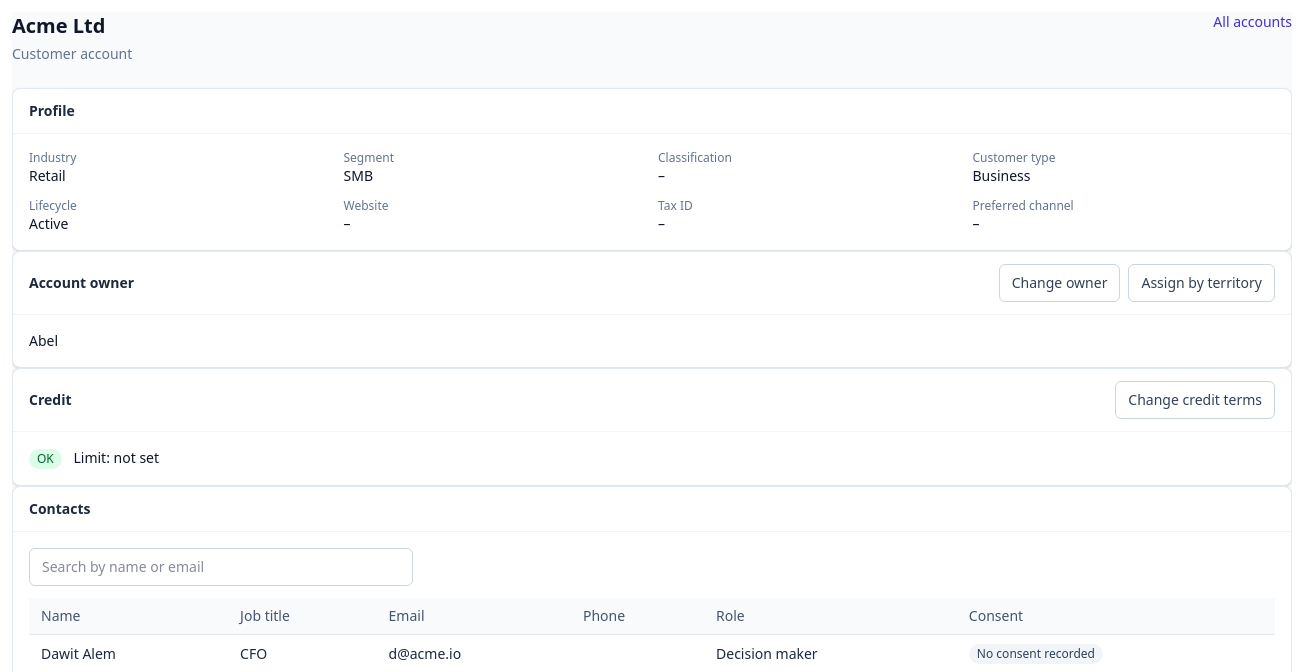
Test case: AccountDetailPage owner › assigns by territory and reports a refusal
What coordinates should you click on to do the following:
click the button "Assign by territory"
I would click on:
 (1202, 283)
Its box is [1128,264,1275,302].
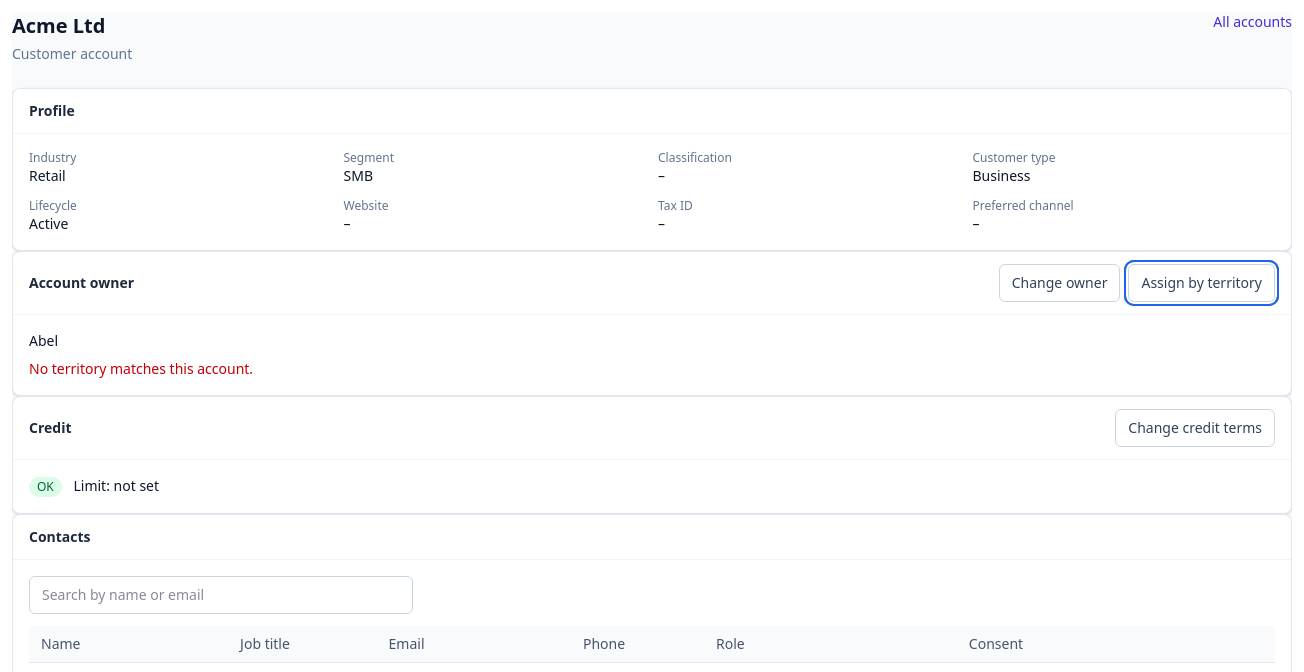
Check: the text "No territory matches this account." is shown, box [29,359,253,378]
What coordinates should you click on to do the following:
click the button "Assign by territory"
I would click on:
 (1202, 283)
Its box is [1128,264,1275,302].
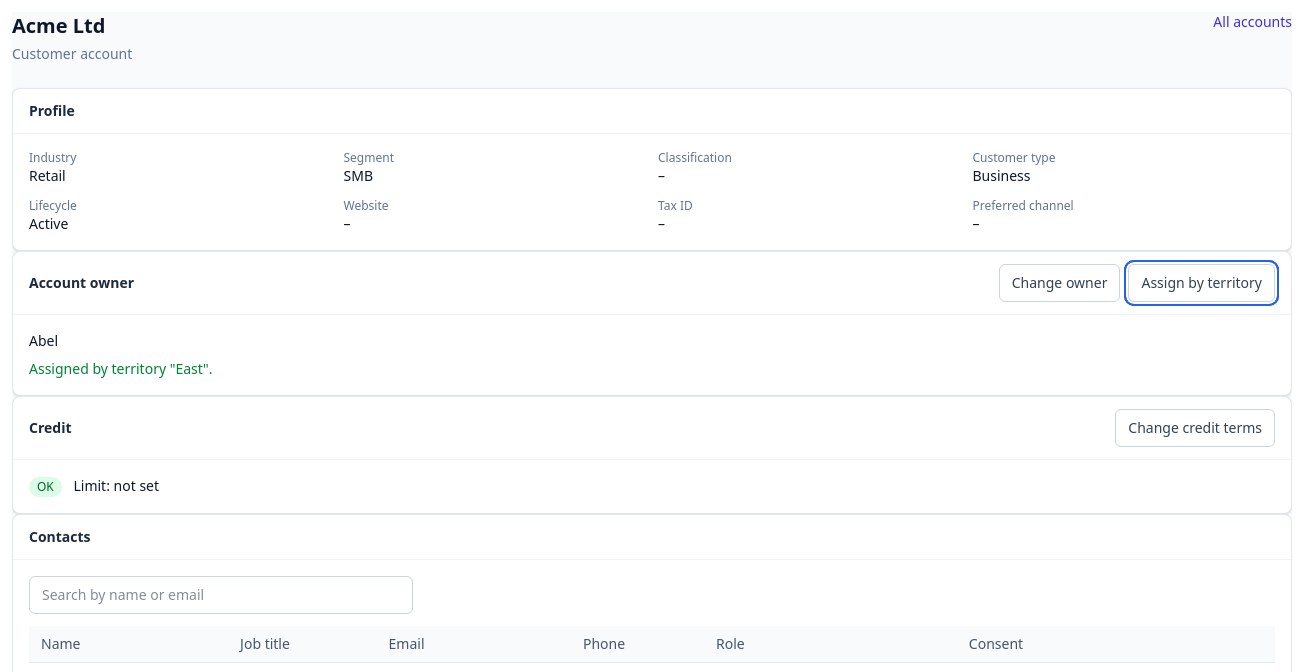
Check: the text "Assigned by territory \"East\"." is shown, box [29,359,213,378]
